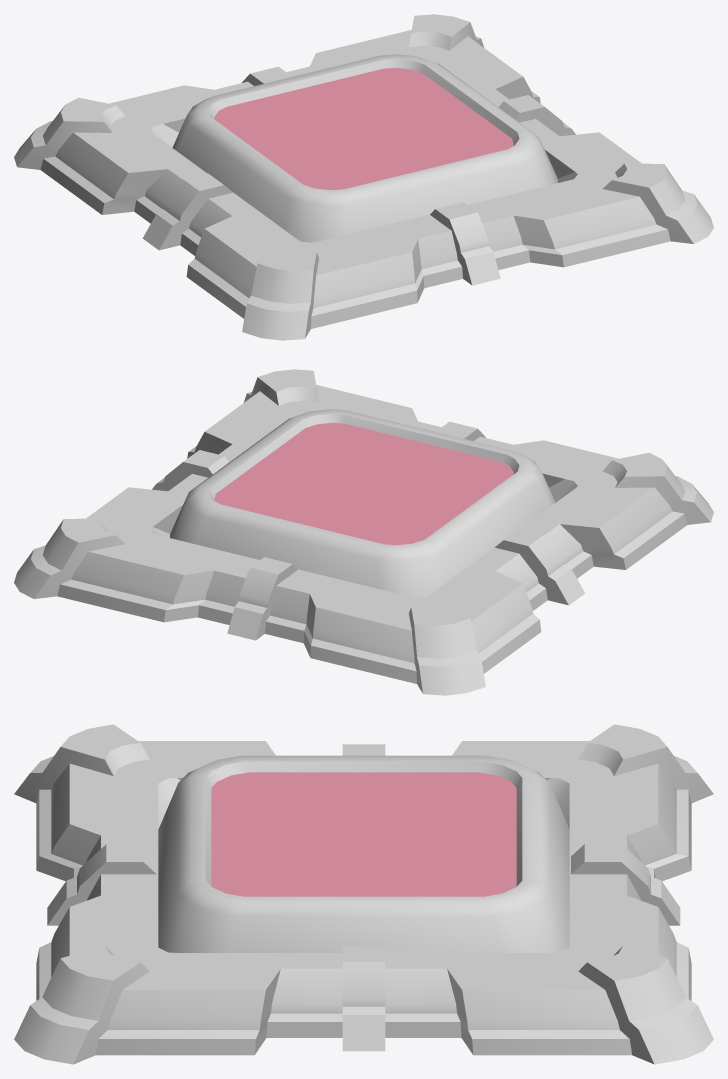
The model's file is Button.fbx.
The picture shows the model from 3 angles, top to bottom: view 1: azimuth 30°, elevation 25°; view 2: azimuth 150°, elevation 25°; view 3: azimuth 270°, elevation 25°; orthographic projection. The views are drawn at different scales.
Visible parts, largest first — view 1: Button_LP, Button_LP.002; view 2: Button_LP, Button_LP.002; view 3: Button_LP, Button_LP.002.
Boxes of the visible parts, x1=… form: Button_LP: x1=14, y1=14, x2=713, y2=340; Button_LP.002: x1=172, y1=54, x2=557, y2=242; Button_LP: x1=14, y1=369, x2=713, y2=695; Button_LP.002: x1=170, y1=409, x2=555, y2=597; Button_LP: x1=14, y1=724, x2=713, y2=1064; Button_LP.002: x1=158, y1=755, x2=569, y2=952.
Bounding box in the file's own units: 184 × 25.43 × 184.
